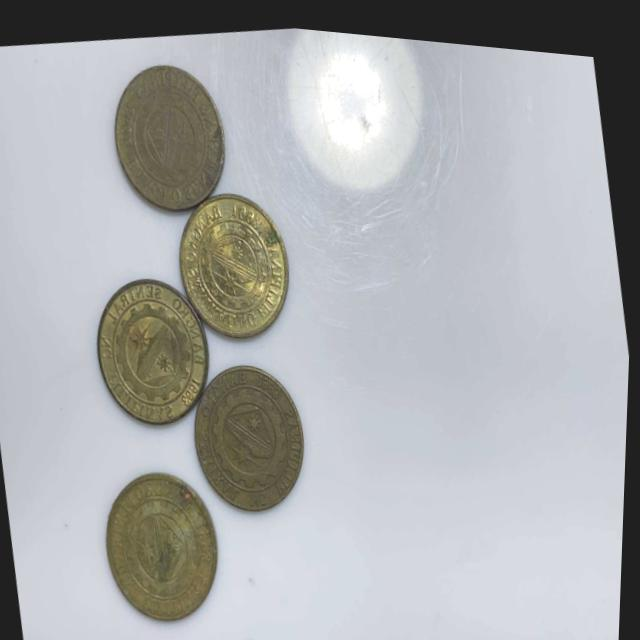25Cent_Old_Back: (99, 461, 233, 630), (89, 265, 221, 432), (185, 352, 321, 514), (102, 50, 234, 215), (174, 182, 302, 340)
